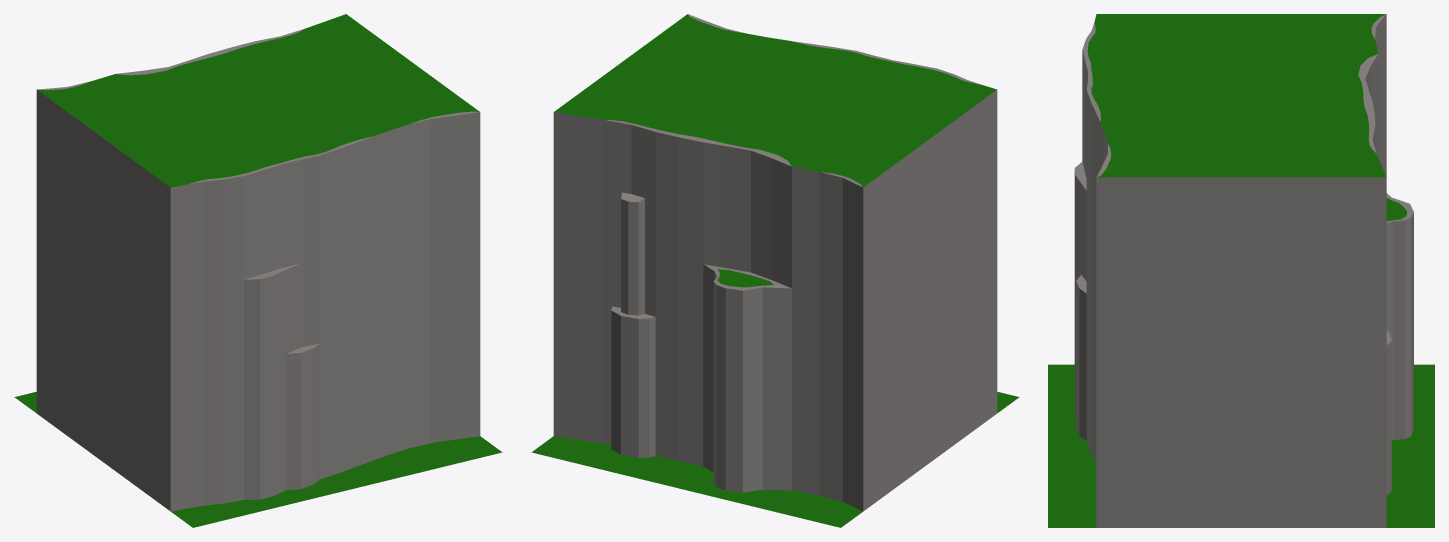
File: MountainPath.fbx
3 renders of one model, left to right at view 1: azimuth 30°, elevation 25°; view 2: azimuth 150°, elevation 25°; view 3: azimuth 270°, elevation 25°, orthographic. The views are drawn at different scales.
Parts seen in each view (by area): view 1: Plane.006; view 2: Plane.006; view 3: Plane.006.
Boxes of the visible parts, left/top/right/bottom form: Plane.006: left=14, top=14, right=502, bottom=527; Plane.006: left=531, top=14, right=1019, bottom=527; Plane.006: left=1048, top=14, right=1434, bottom=527.
Bounding box in the file's own units: 100 × 100 × 100.
